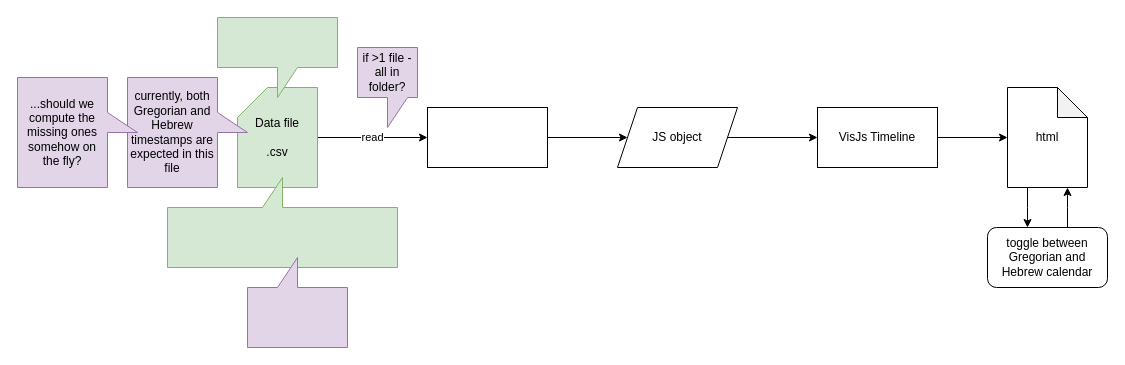
Some shapes in this 1125 by 365 pixel diagram are drawn without their labels. The centre of each missing label's shape, as x and y in pixels:
Data points: Timestamp OR Start- and End- [year] Label [string]: [282,222]
Human readable, easily editable in text editor: [277,57]
PapaParse: [487,137]
To Do: add some way to group (Event, Person, etc.): [297,302]
